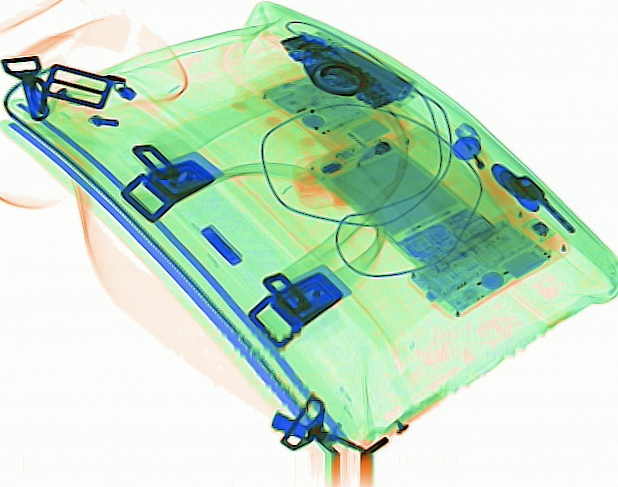lighter: (453, 120, 519, 210)
